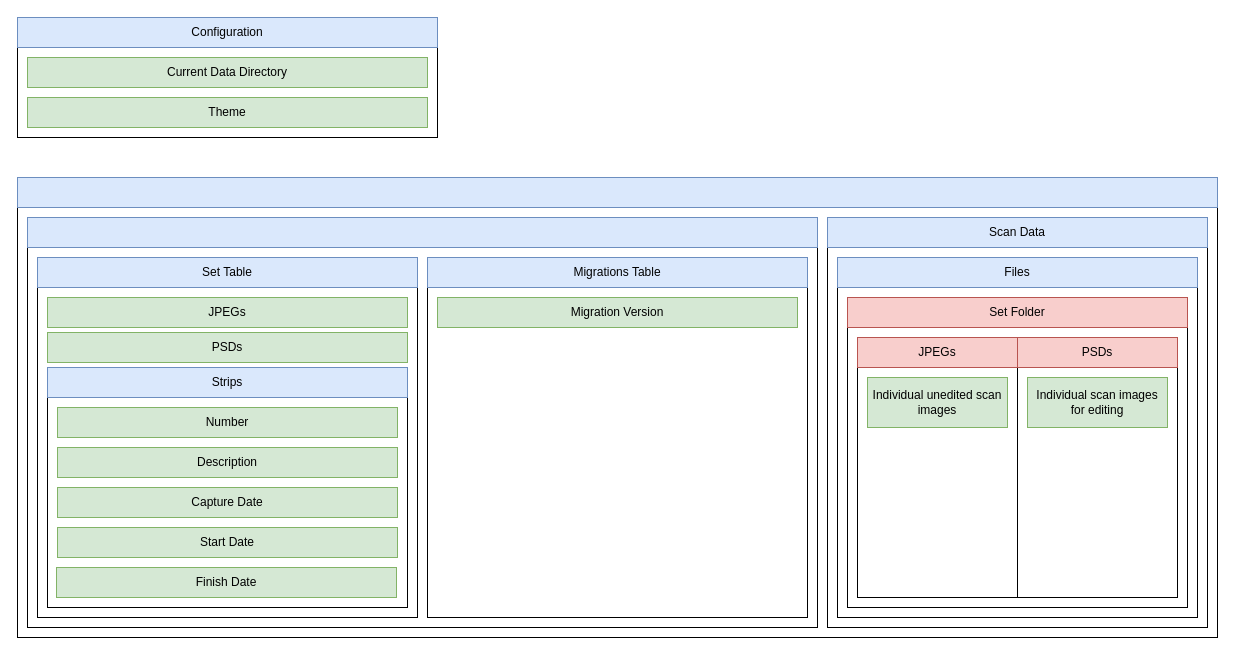
This 1235x655 diagram has some shape labels left out. Here are the shapes that lost their labels. From the top down, the centre of each, then its label:
At (617,192): "Data Directory".
At (422,232): "H2 Database".
